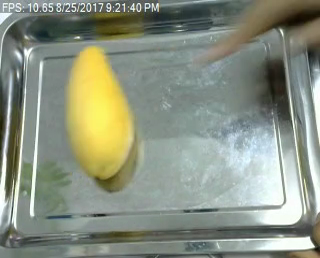Mango: (60, 45, 139, 181)
